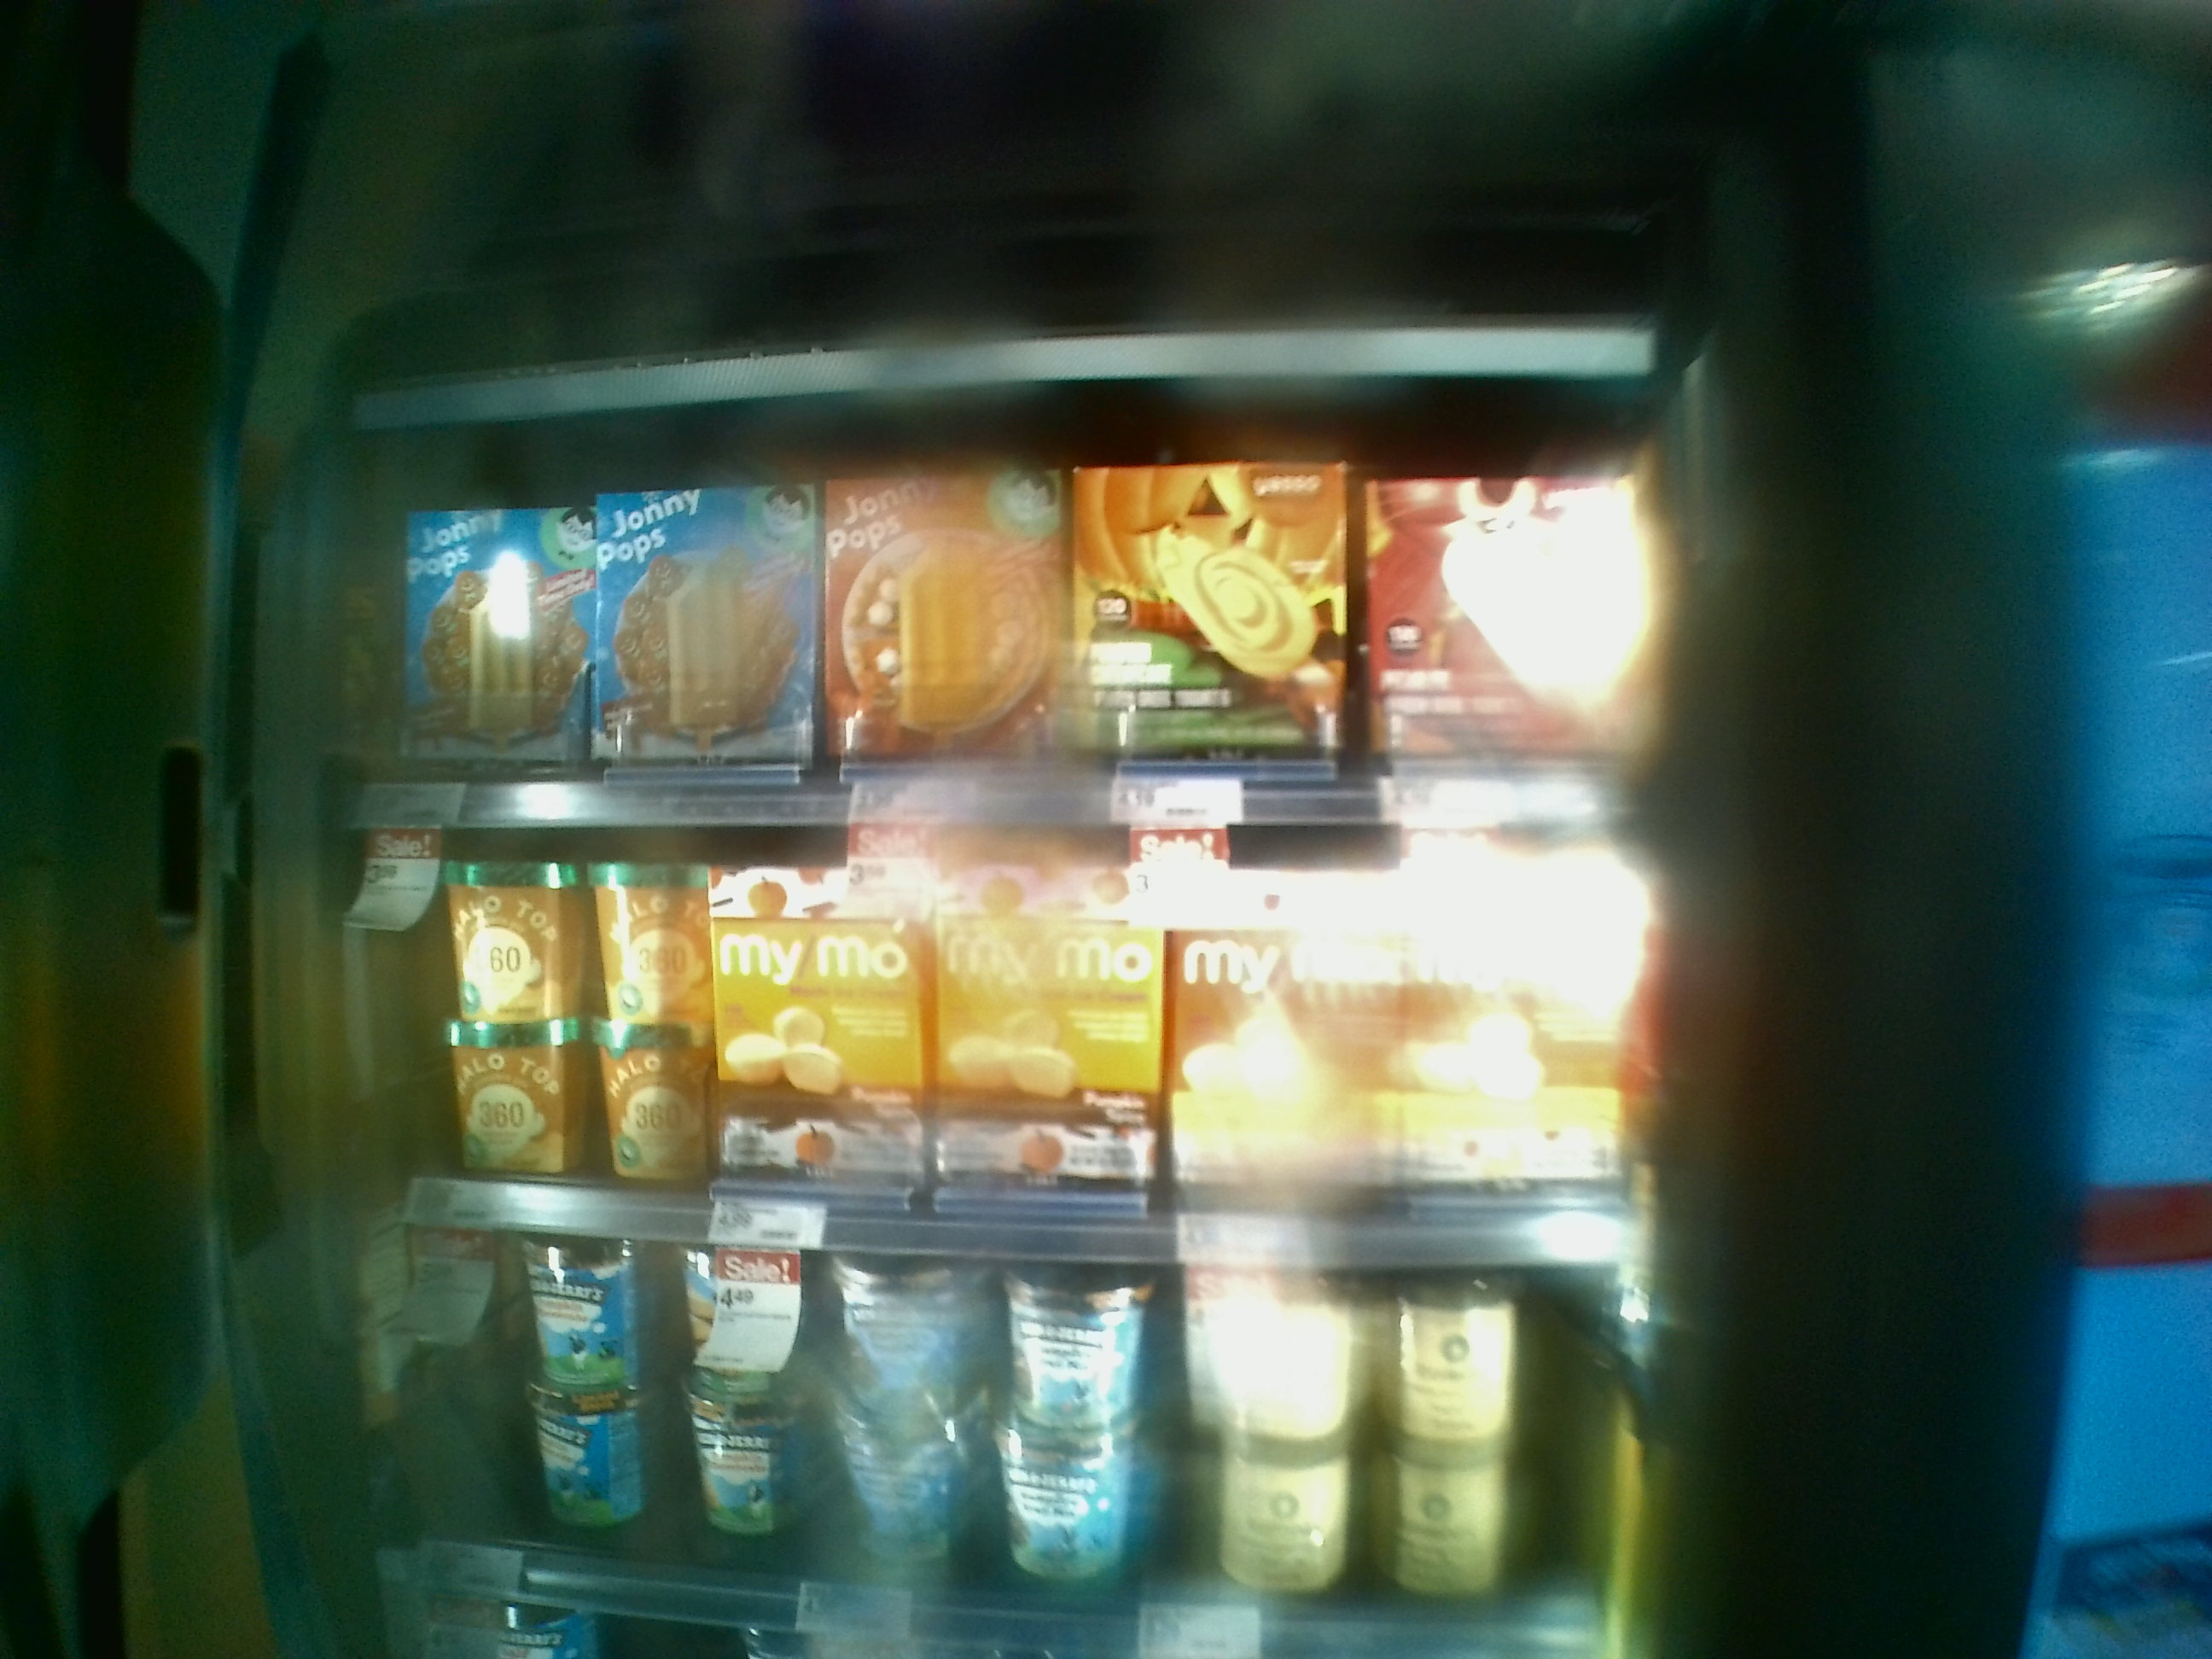shelf: (327, 784, 1658, 1249), (355, 1190, 1658, 1659), (322, 389, 1667, 829)
